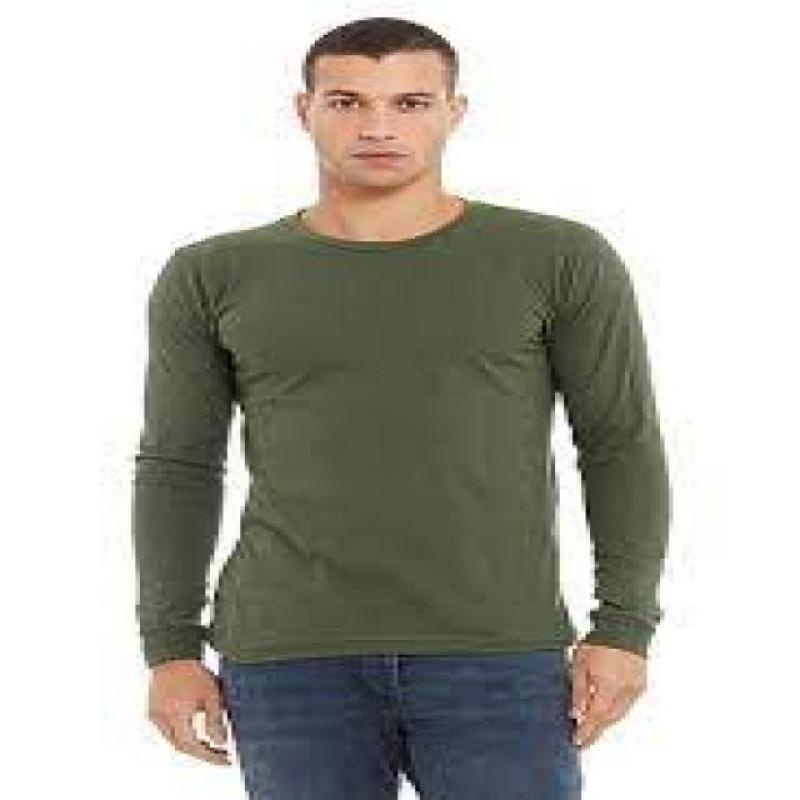long sleeve shirt: (130, 198, 675, 668)
trousers: (217, 643, 582, 800)
